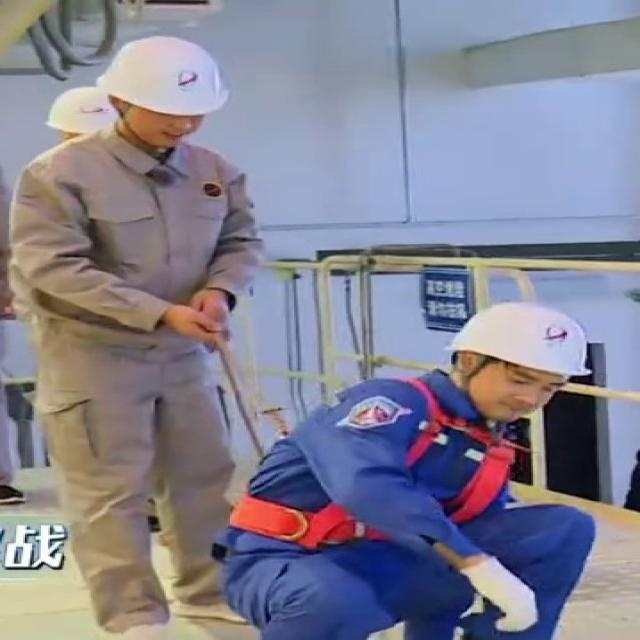Arnes_seguridad: (223, 366, 524, 553)
